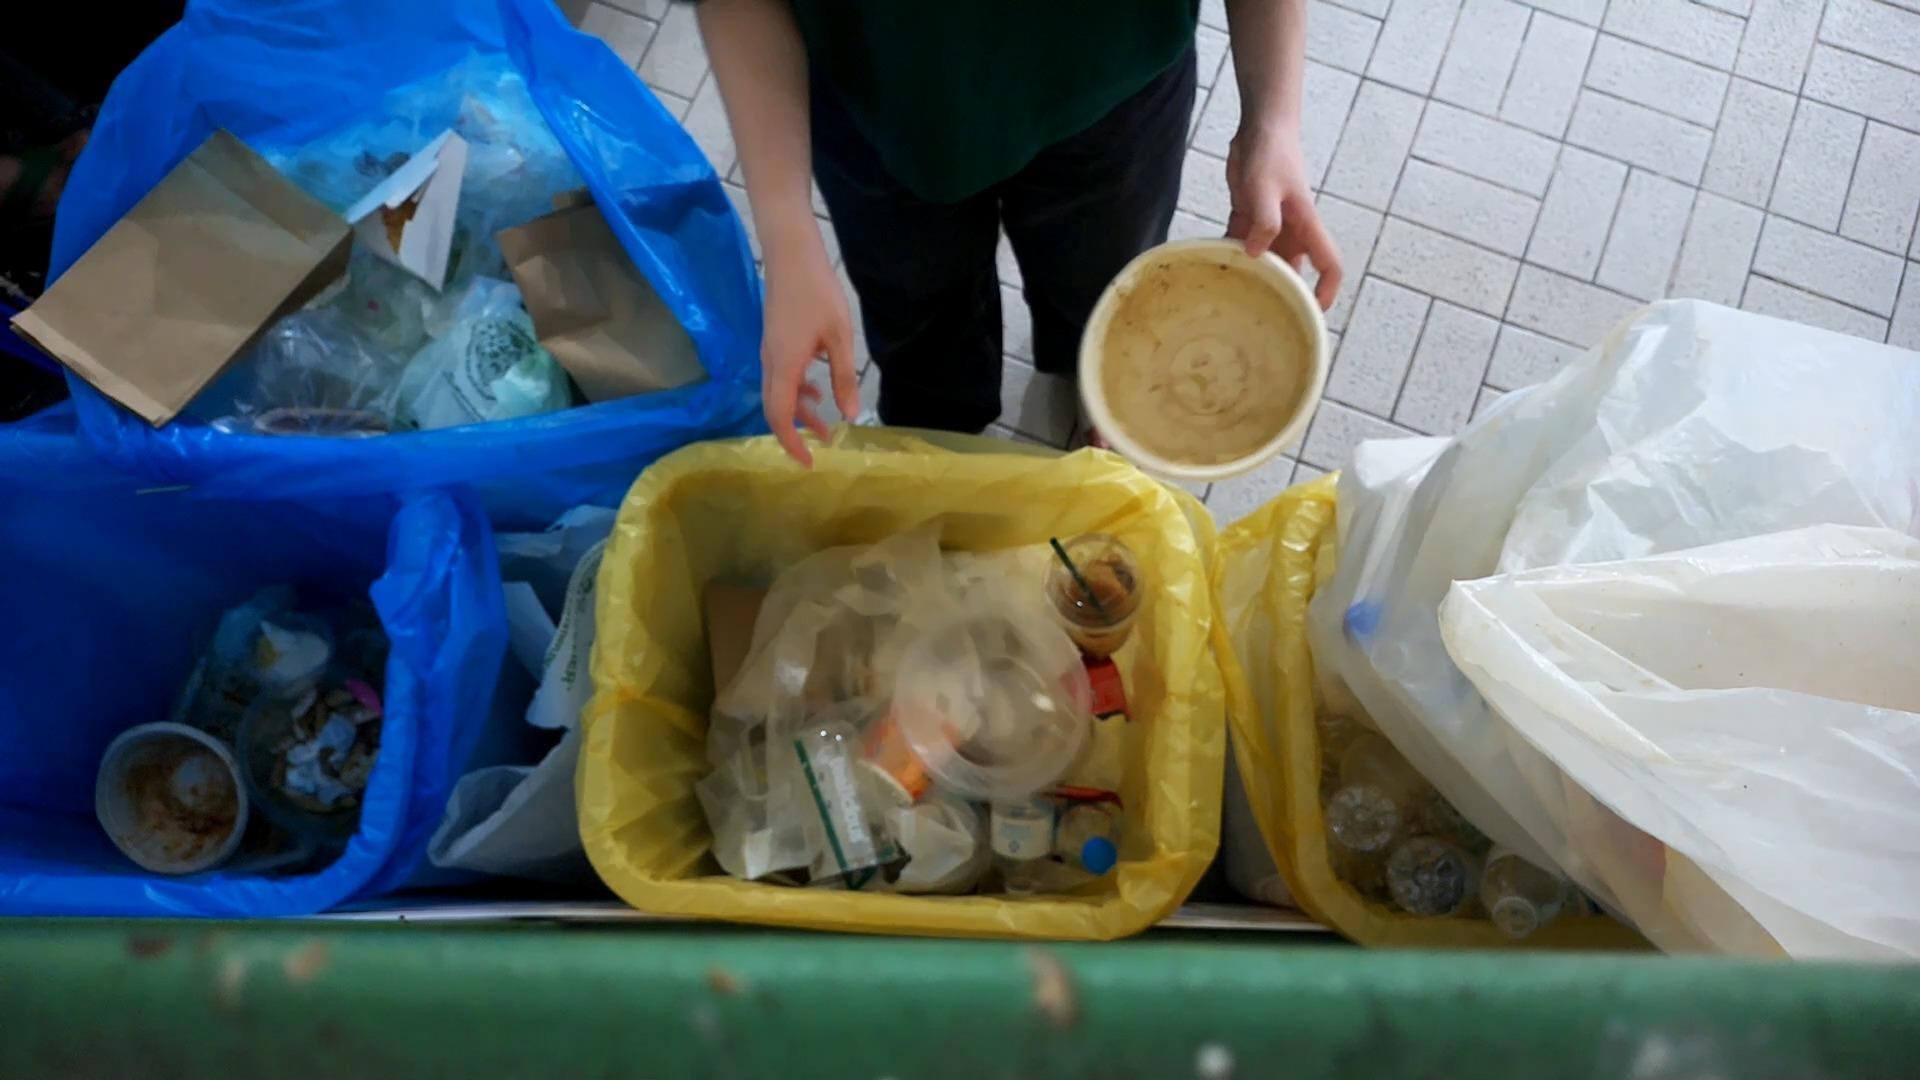food container: (1076, 231, 1332, 481), (890, 599, 1091, 804), (92, 728, 255, 878)
paper bag: (0, 121, 361, 436)
plastic bottle: (1320, 750, 1412, 856), (989, 785, 1052, 901)
plastic cup: (783, 720, 905, 889), (1046, 529, 1147, 659)
snack packaging: (1058, 654, 1137, 724), (1040, 775, 1131, 811)
straw: (793, 736, 858, 874), (1047, 537, 1116, 628)
